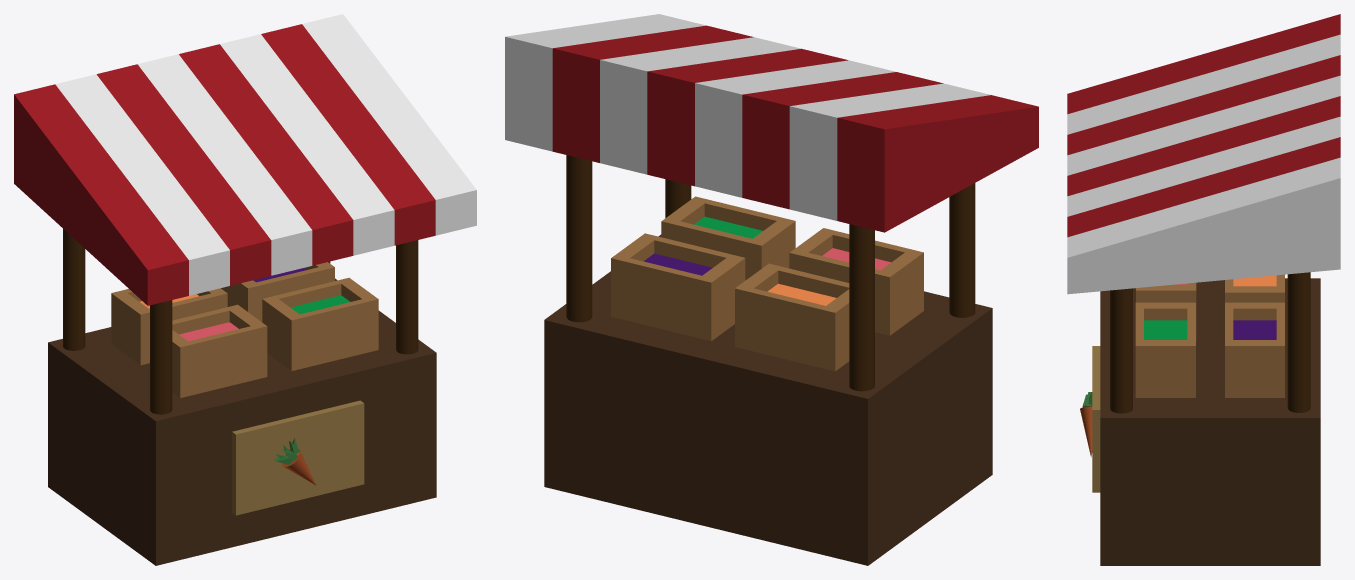
File: HodorStand.fbx
The picture shows the model from 3 angles, left to right: view 1: azimuth 30°, elevation 25°; view 2: azimuth 150°, elevation 25°; view 3: azimuth 270°, elevation 25°; orthographic projection. The views are drawn at different scales.
Visible parts, largest first — view 1: Cover, Bottom, Sign, Crate.001, Crate, Crate.003, Crate.002, Cylinder.001, Cylinder.002, Cylinder, Carrot; view 2: Bottom, Cover, Crate.002, Crate.003, Crate, Crate.001, Cylinder.003, Cylinder.002, Cylinder.001, Cylinder; view 3: Cover, Bottom, Crate.001, Crate.002, Cylinder.003, Cylinder, Crate.003, Sign, Crate, Carrot.
Part boxes in pixels (x1,y1,x2,y2): Cover: (14, 14, 476, 305); Bottom: (48, 278, 436, 565); Sign: (232, 400, 364, 515); Crate.001: (262, 277, 378, 370); Crate: (172, 304, 267, 397); Crate.003: (111, 288, 227, 365); Crate.002: (221, 262, 334, 321); Cylinder.001: (150, 300, 172, 414); Cylinder.002: (63, 229, 85, 350); Cylinder: (396, 240, 418, 354); Carrot: (274, 437, 316, 485); Bottom: (544, 234, 992, 565); Cover: (505, 14, 1038, 232); Crate.002: (611, 233, 745, 341); Crate.003: (735, 263, 849, 371); Crate: (789, 228, 923, 335); Crate.001: (661, 196, 795, 280); Cylinder.003: (566, 155, 592, 322); Cylinder.002: (849, 224, 874, 391); Cylinder.001: (949, 183, 975, 317); Cylinder: (665, 179, 691, 217); Cover: (1067, 14, 1340, 294); Bottom: (1100, 278, 1320, 565); Crate.001: (1135, 302, 1195, 397); Crate.002: (1225, 302, 1284, 397); Cylinder.003: (1287, 272, 1310, 412); Cylinder: (1110, 288, 1132, 413); Crate.003: (1225, 274, 1284, 302); Sign: (1092, 346, 1100, 492); Crate: (1136, 282, 1196, 341); Carrot: (1080, 392, 1092, 457).
Size of the model in its own units: 476 by 541 by 335.
